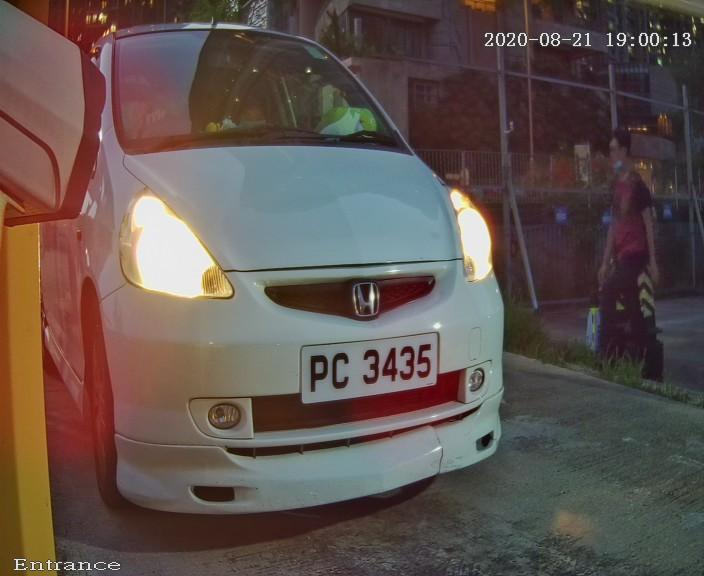Car: (13, 6, 569, 561)
License Plate: (293, 319, 450, 409)
